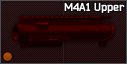M4A1 5.56x45 upper receiver: (0, 0, 127, 64)
